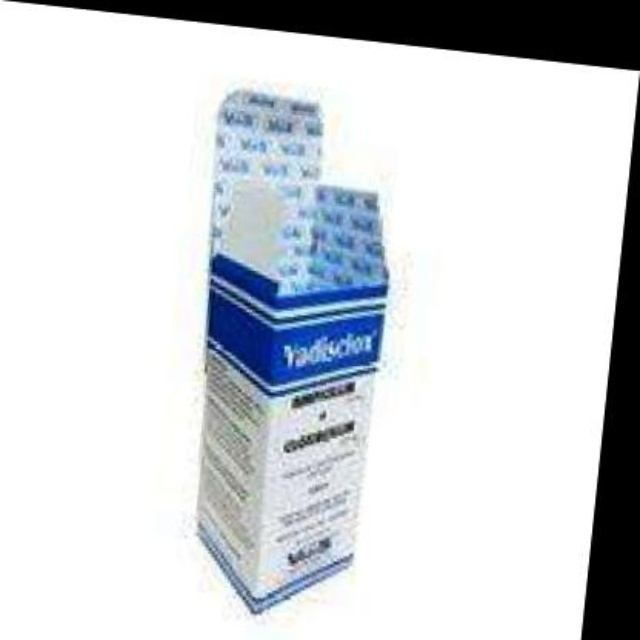trash: (198, 88, 388, 611)
